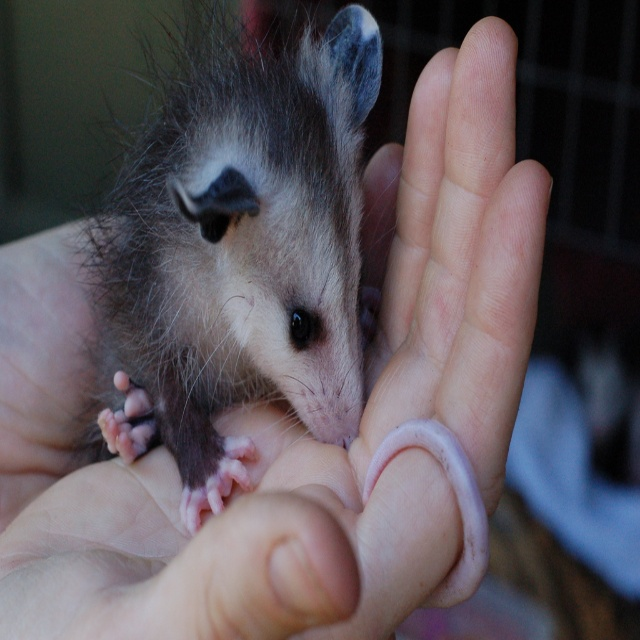Mouse: (57, 0, 428, 537)
